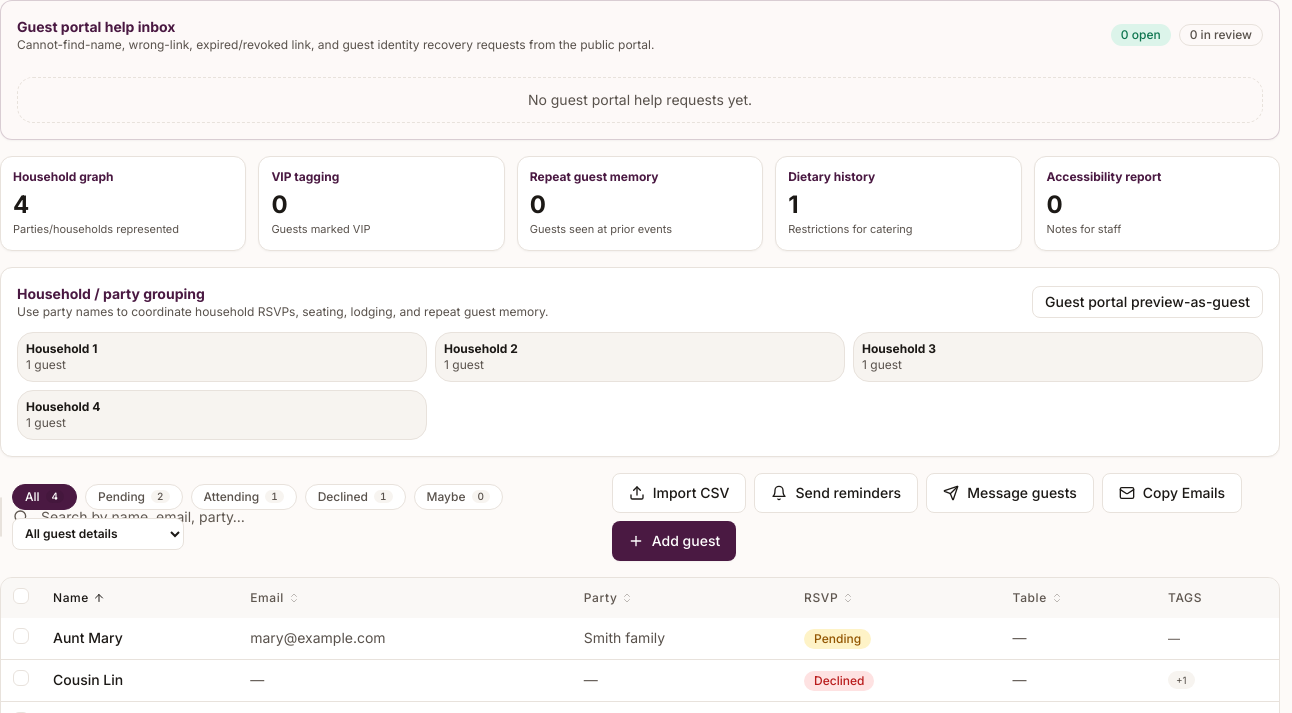
Test case: EventGuestsTab › filters by status chip
Expected: the text "Aunt Mary" is shown, [41,618,238,659]
Click the button "Attending 1".
click(244, 496)  # box [190,484,297,510]
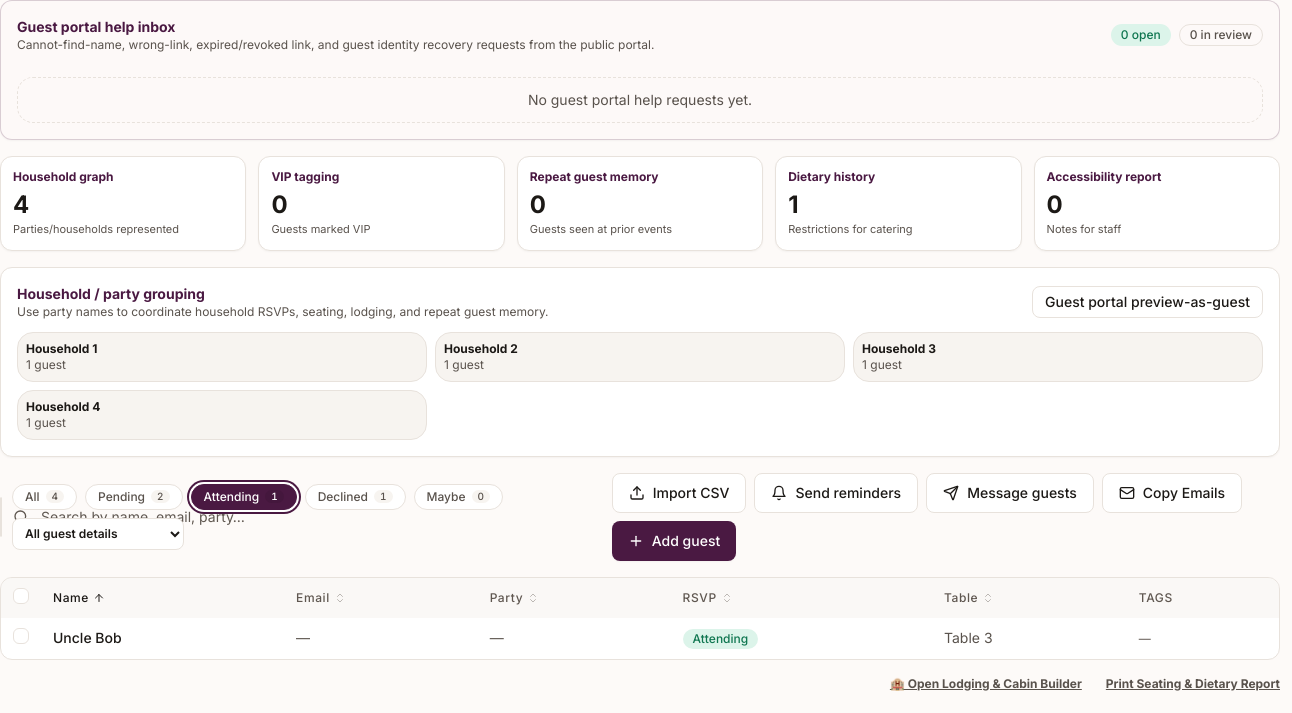
Expected: the text "Uncle Bob" is shown, [41,618,284,658]
Expected: the text "Aunt Mary" is gone
